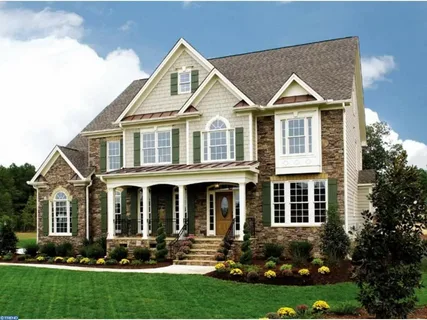private_hause: (88, 55, 356, 258)
